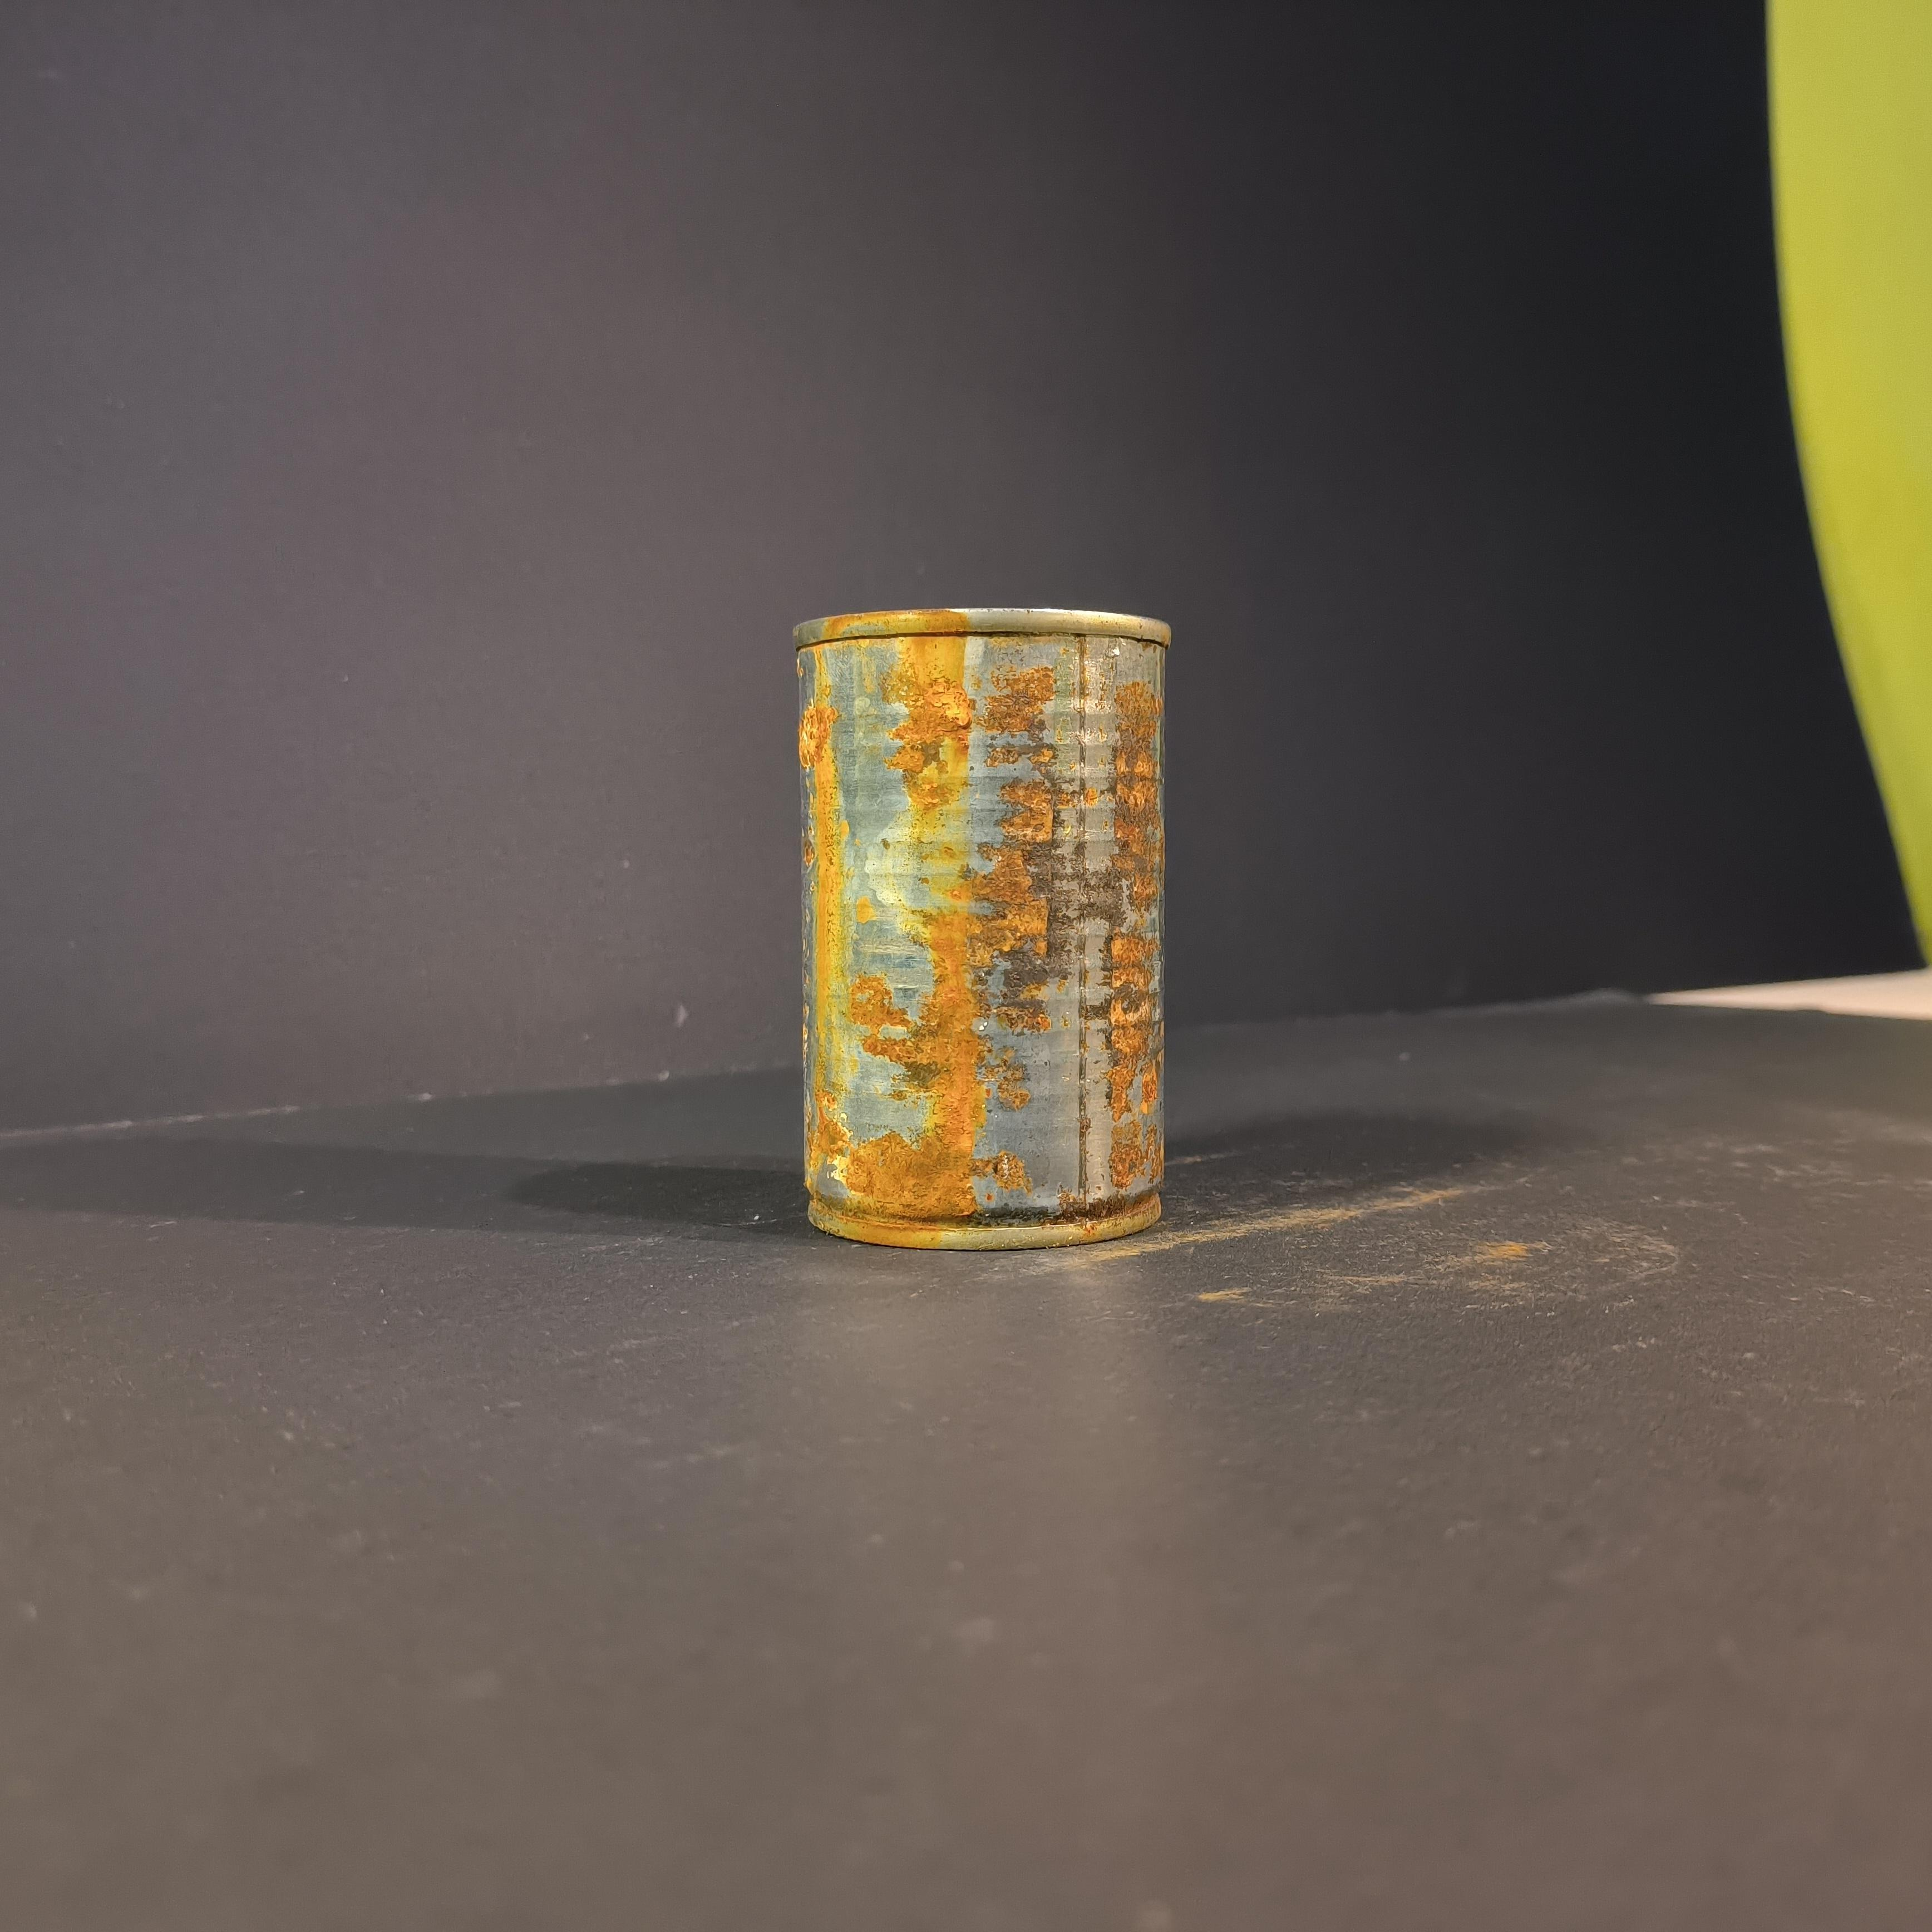Rusted: (782, 577, 1194, 1263)
